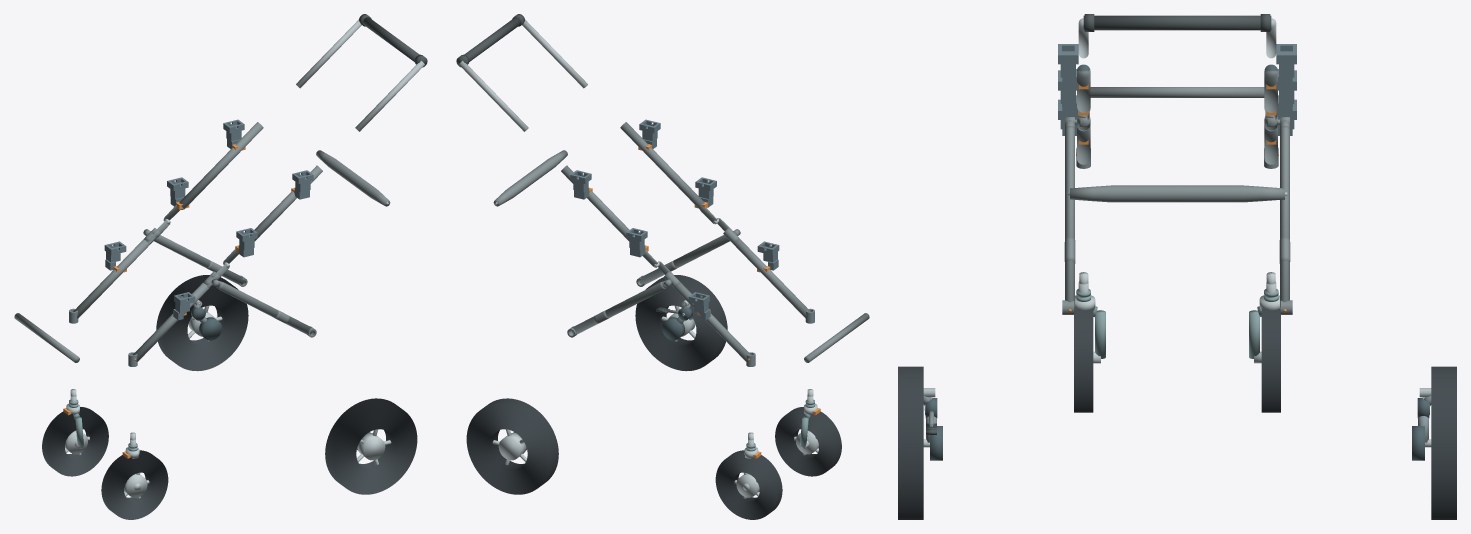
Rendered from w550_state6_wheel_L.glb.
3 renders of one model, left to right at view 1: azimuth 30°, elevation 25°; view 2: azimuth 150°, elevation 25°; view 3: azimuth 270°, elevation 25°, orthographic. The views are drawn at different scales.
Parts seen in each view (by area): view 1: RL_tire.007, RR_tire.007, FL_tire.007, FR_tire.007, main_upper_1.008, main_lower_1.008, V46_rearbar.008, V46_rear_leg_-1.008, V46_rear_leg_1.008, main_lower_-1.008, round_handle.007, handle_slider_-1.007 (+6 smaller); view 2: RR_tire.007, RL_tire.007, FR_tire.007, FL_tire.007, main_upper_-1.008, V46_rearbar.008, main_lower_-1.008, V46_rear_leg_1.008, V46_rear_leg_-1.008, main_lower_1.008, round_handle.007, handle_slider_1.007 (+6 smaller); view 3: RL_tire.007, RR_tire.007, V46_rearbar.008, round_handle.007, FL_tire.007, FR_tire.007, front_fixed_round_tube.007, V46_rear_leg_1.008, V46_rear_leg_-1.008, Universal_Cabin_Receiver_H_1, Universal_Cabin_Receiver_H_-1.
Boxes of the visible parts, left/top/right/bottom form: RL_tire.007: left=325, top=398, right=417, bottom=494; RR_tire.007: left=156, top=275, right=248, bottom=371; FL_tire.007: left=101, top=450, right=168, bottom=519; FR_tire.007: left=42, top=407, right=108, bottom=476; main_upper_1.008: left=179, top=122, right=263, bottom=209; main_lower_1.008: left=73, top=237, right=155, bottom=318; V46_rearbar.008: left=316, top=150, right=390, bottom=206; V46_rear_leg_-1.008: left=218, top=281, right=312, bottom=334; V46_rear_leg_1.008: left=154, top=235, right=244, bottom=284; main_lower_-1.008: left=132, top=283, right=211, bottom=362; round_handle.007: left=363, top=17, right=426, bottom=66; handle_slider_-1.007: left=355, top=61, right=424, bottom=131; RR_tire.007: left=466, top=398, right=558, bottom=494; RL_tire.007: left=635, top=275, right=727, bottom=371; FR_tire.007: left=715, top=450, right=782, bottom=519; FL_tire.007: left=775, top=407, right=841, bottom=476; main_upper_-1.008: left=620, top=122, right=704, bottom=209; V46_rearbar.008: left=493, top=150, right=567, bottom=206; main_lower_-1.008: left=728, top=237, right=810, bottom=318; V46_rear_leg_1.008: left=571, top=281, right=665, bottom=334; V46_rear_leg_-1.008: left=639, top=235, right=729, bottom=284; main_lower_1.008: left=672, top=283, right=751, bottom=362; round_handle.007: left=457, top=17, right=520, bottom=66; handle_slider_1.007: left=459, top=61, right=528, bottom=131; RL_tire.007: left=898, top=366, right=923, bottom=519; RR_tire.007: left=1431, top=366, right=1456, bottom=519; V46_rearbar.008: left=1070, top=185, right=1284, bottom=202; round_handle.007: left=1083, top=15, right=1271, bottom=30; FL_tire.007: left=1074, top=308, right=1093, bottom=412; FR_tire.007: left=1261, top=308, right=1280, bottom=412; front_fixed_round_tube.007: left=1090, top=87, right=1264, bottom=97; V46_rear_leg_1.008: left=1280, top=126, right=1289, bottom=308; V46_rear_leg_-1.008: left=1065, top=126, right=1074, bottom=308; Universal_Cabin_Receiver_H_1: left=1276, top=44, right=1296, bottom=89; Universal_Cabin_Receiver_H_-1: left=1058, top=44, right=1078, bottom=89.
Size of the model in its own units: 1.51 by 1.59 by 1.31.
